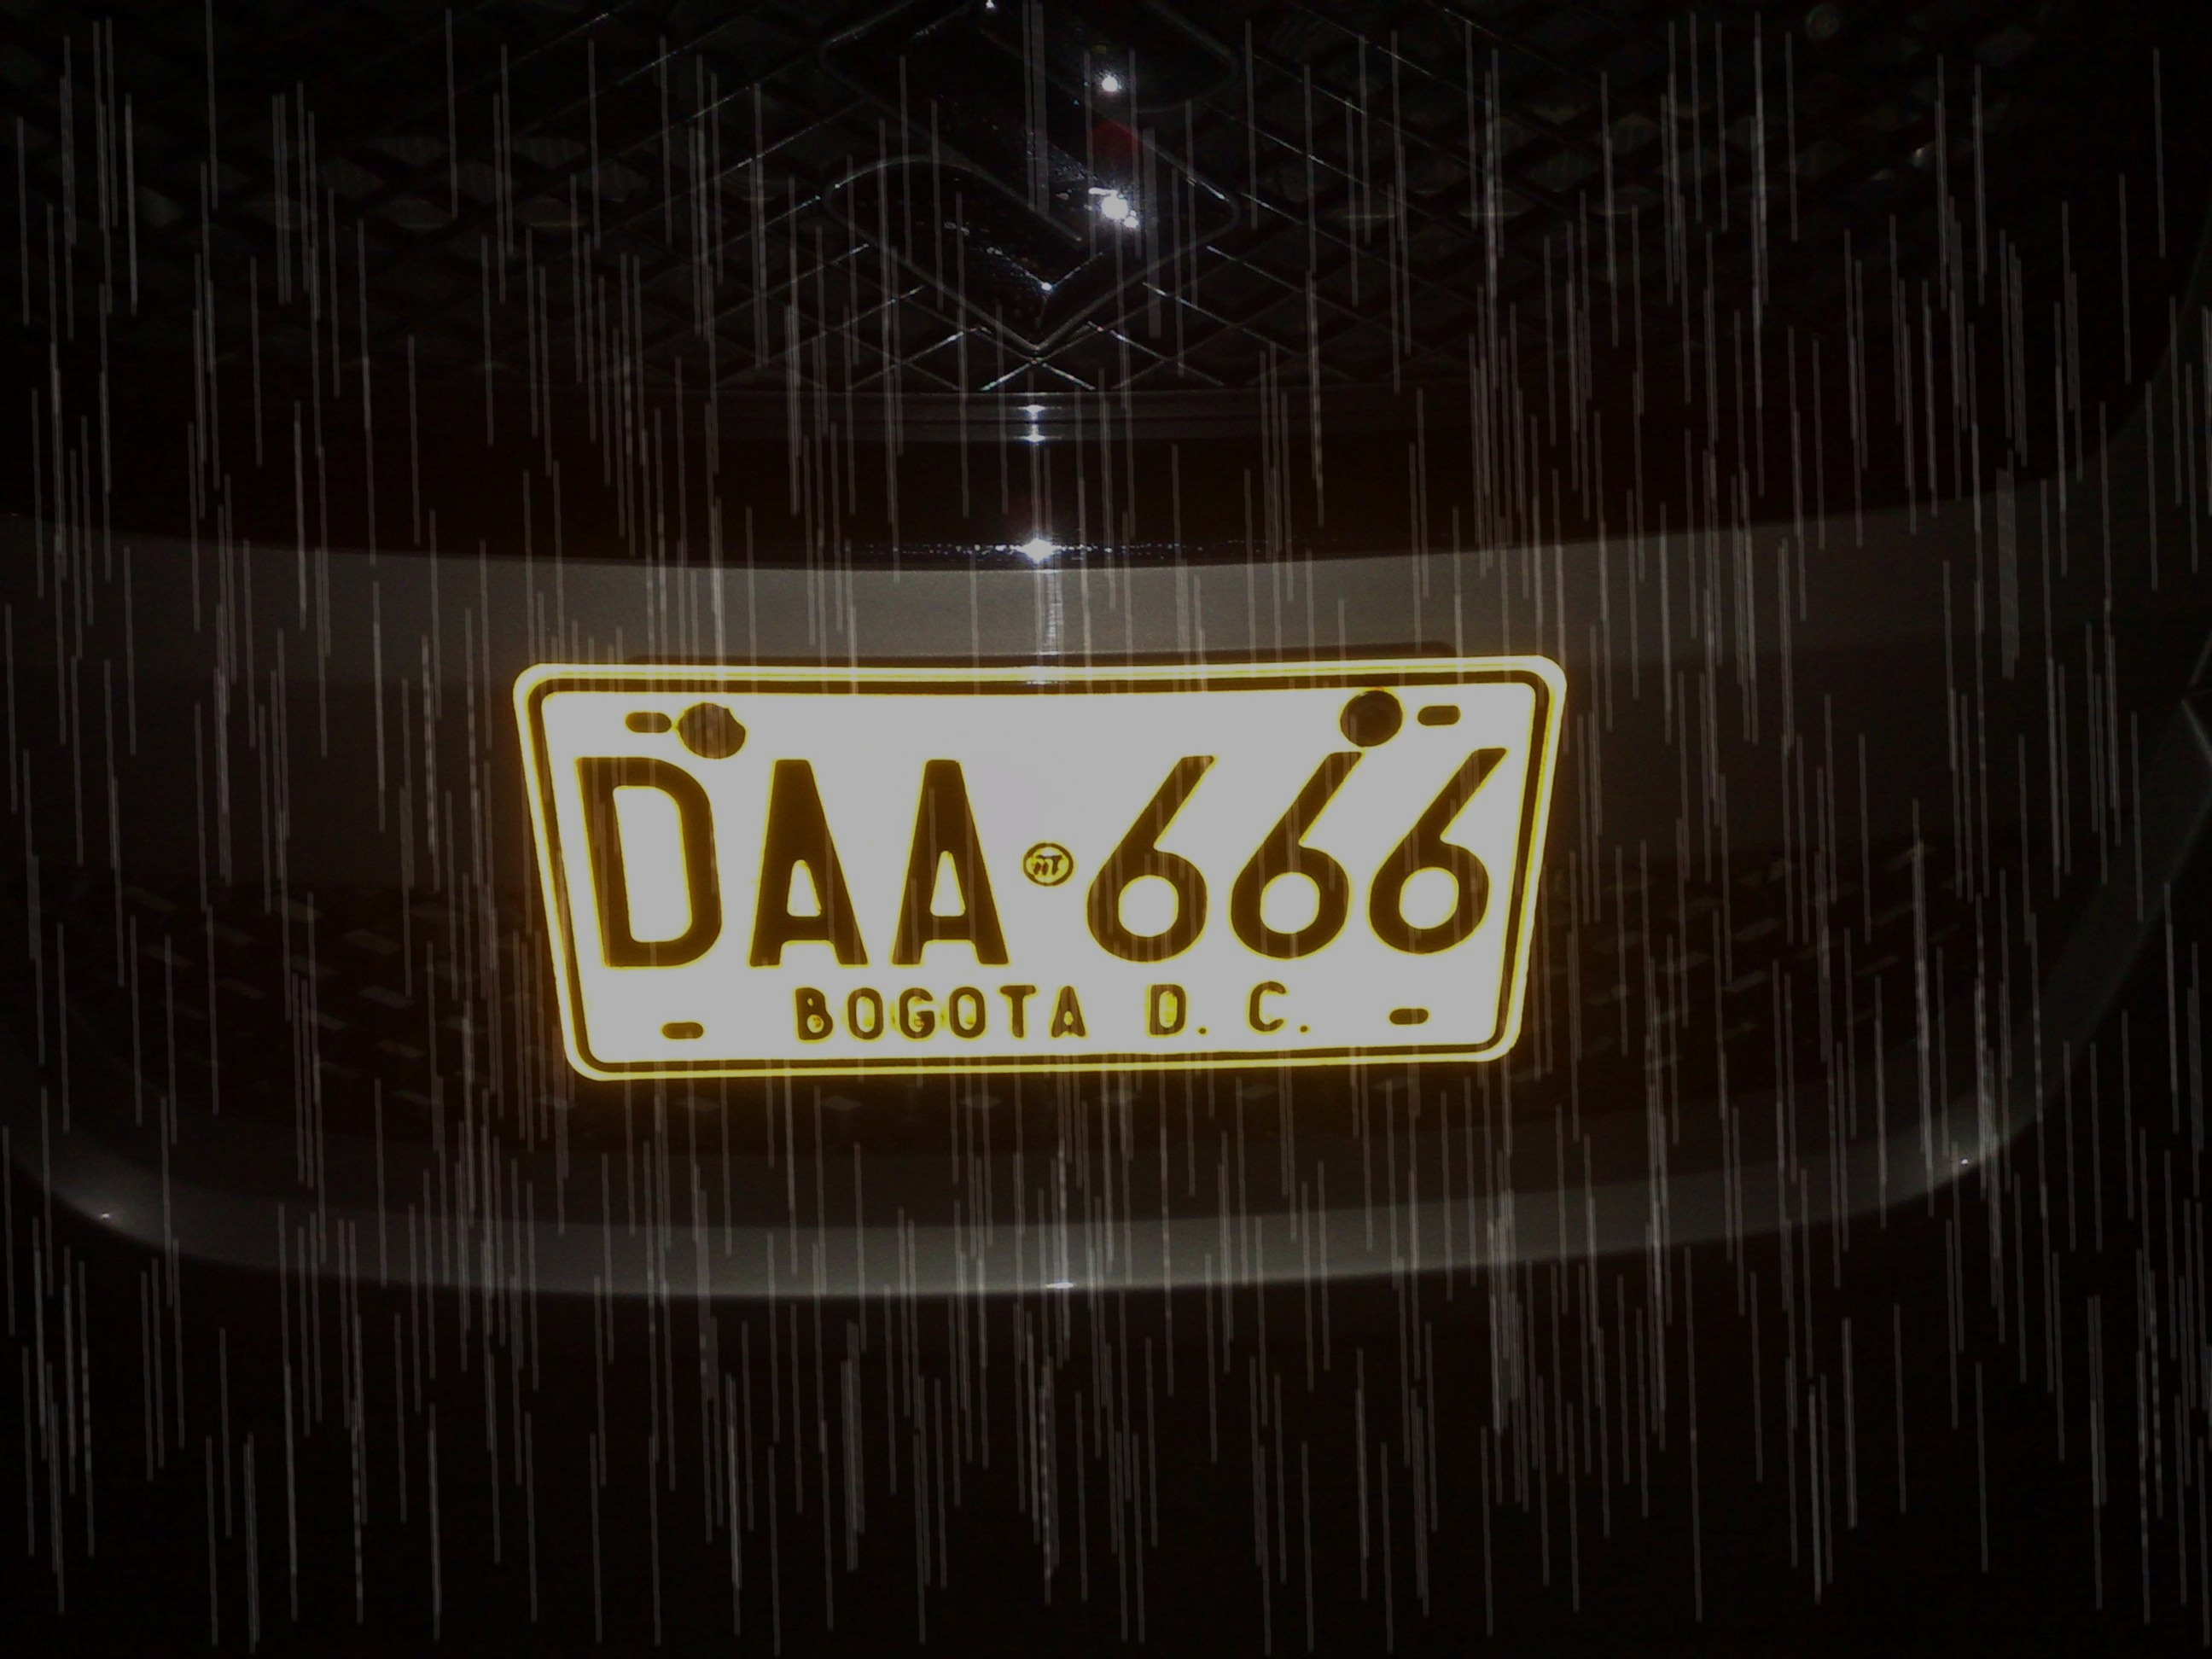placas: (500, 645, 1570, 1092)
